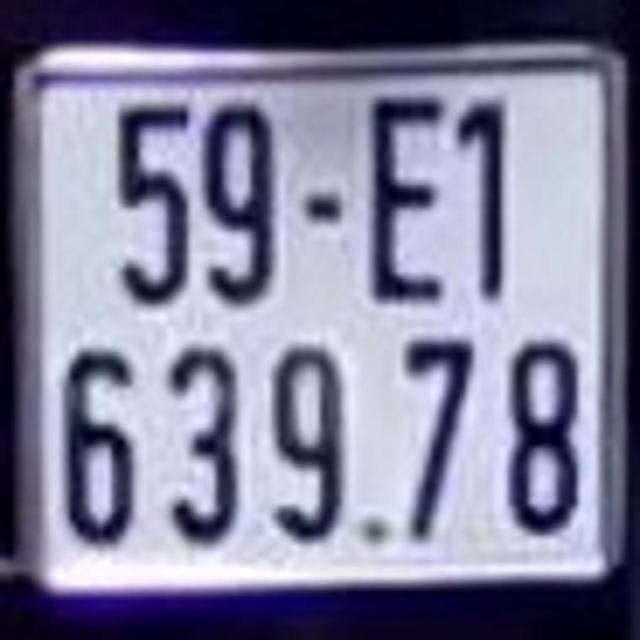1: (454, 91, 518, 302)
3: (163, 341, 241, 545)
5: (112, 96, 193, 306)
6: (59, 342, 138, 547)
7: (398, 328, 478, 542)
8: (505, 333, 583, 536)
9: (201, 95, 278, 308), (268, 339, 346, 542)
E: (367, 90, 451, 306)
